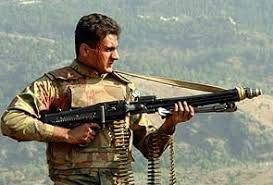gun: (37, 79, 260, 126)
uniform: (26, 60, 154, 182)
